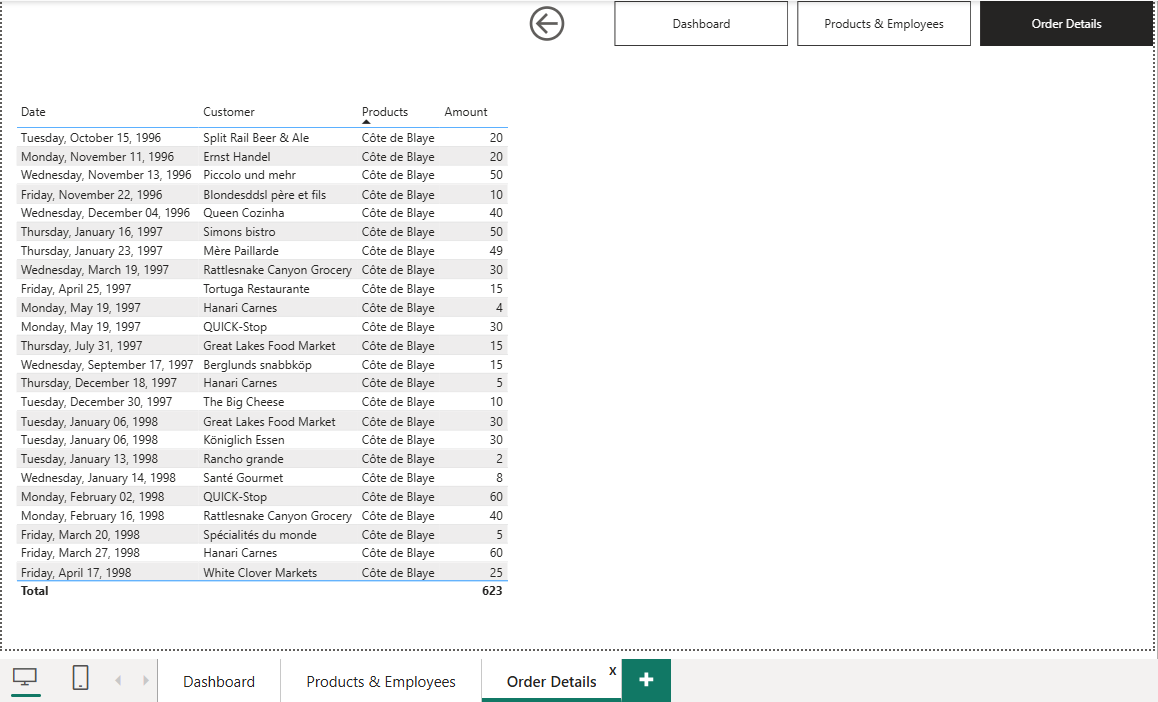

Layout of this report page (visuals, bound fields, positions):
{"tool":"powerbi","page":{"name":"Order Details ","canvas":[1280,720],"ordinal":2},"visuals":[{"type":"tableEx","fields":{"Values":["public v_order_sales.Order Date","public v_customer_geo.company_name","public v_product_enriched.product_name","Sum(public v_order_sales.Quantity)"]},"box":[9.7,106.9,951.4,595.8],"z":1},{"type":"actionButton","box":[580.2,0,100,50],"z":2},{"type":"pageNavigator","box":[680.2,0,600,50],"z":3}]}

Visuals, with their boxes on the page's 1280x720 design canvas (x1, y1, x2, y2). These are canvas units, not pixel positions in the 1158x702 screenshot, which may show the page scaled, cropped or inside an application window:
tableEx - public v_order_sales.Order Date x public v_customer_geo.company_name: [left=10, top=107, right=961, bottom=703]
actionButton: [left=580, top=0, right=680, bottom=50]
pageNavigator: [left=680, top=0, right=1280, bottom=50]
